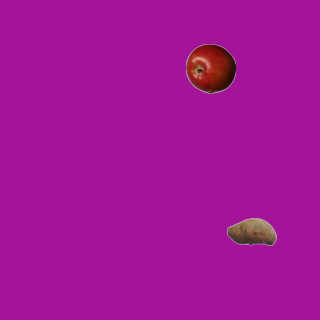Apple Braeburn: (185, 43, 235, 93)
Potato Sweet: (226, 206, 276, 256)
